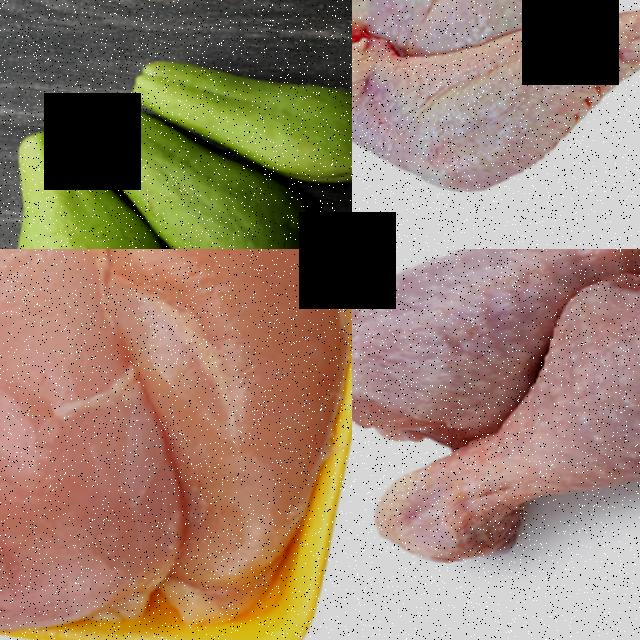chayote: (119, 11, 352, 174), (89, 127, 352, 249), (0, 134, 136, 249)
chicken breast: (67, 249, 352, 606), (0, 249, 142, 640)
chicken thigh: (368, 249, 640, 625)
chicken wing: (352, 0, 640, 244)
